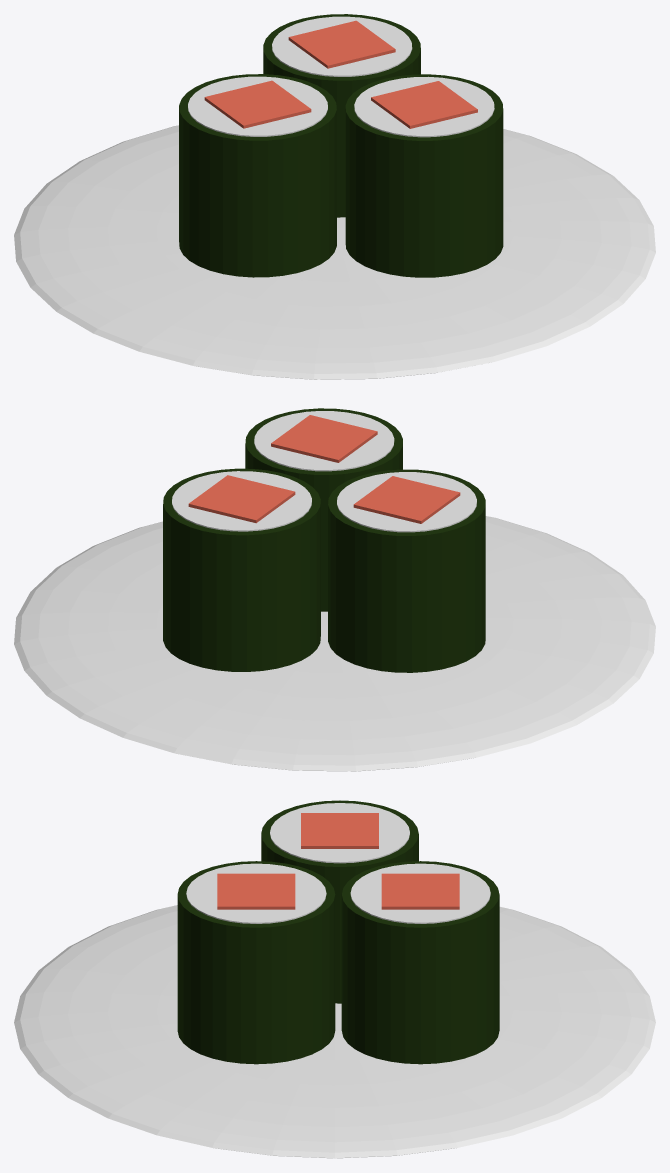
Rendered from shoeshee.fbx.
3 renders of one model, top to bottom at view 1: azimuth 30°, elevation 25°; view 2: azimuth 150°, elevation 25°; view 3: azimuth 270°, elevation 25°, orthographic.
Visible parts, largest first — view 1: Sphere, rice.001, rice.002, rice; view 2: Sphere, rice.002, rice, rice.001; view 3: Sphere, rice, rice.001, rice.002.
Boxes of the visible parts, x1,y1,x2,y2 form: Sphere: [14, 125, 655, 379]; rice.001: [345, 74, 503, 277]; rice.002: [179, 74, 336, 277]; rice: [263, 14, 420, 217]; Sphere: [14, 516, 655, 771]; rice.002: [328, 469, 485, 672]; rice: [163, 468, 320, 671]; rice.001: [245, 408, 402, 611]; Sphere: [14, 905, 655, 1158]; rice: [341, 861, 499, 1064]; rice.001: [177, 861, 335, 1064]; rice.002: [261, 800, 418, 1003].
Bounding box in the file's own units: 814 × 240 × 814.
